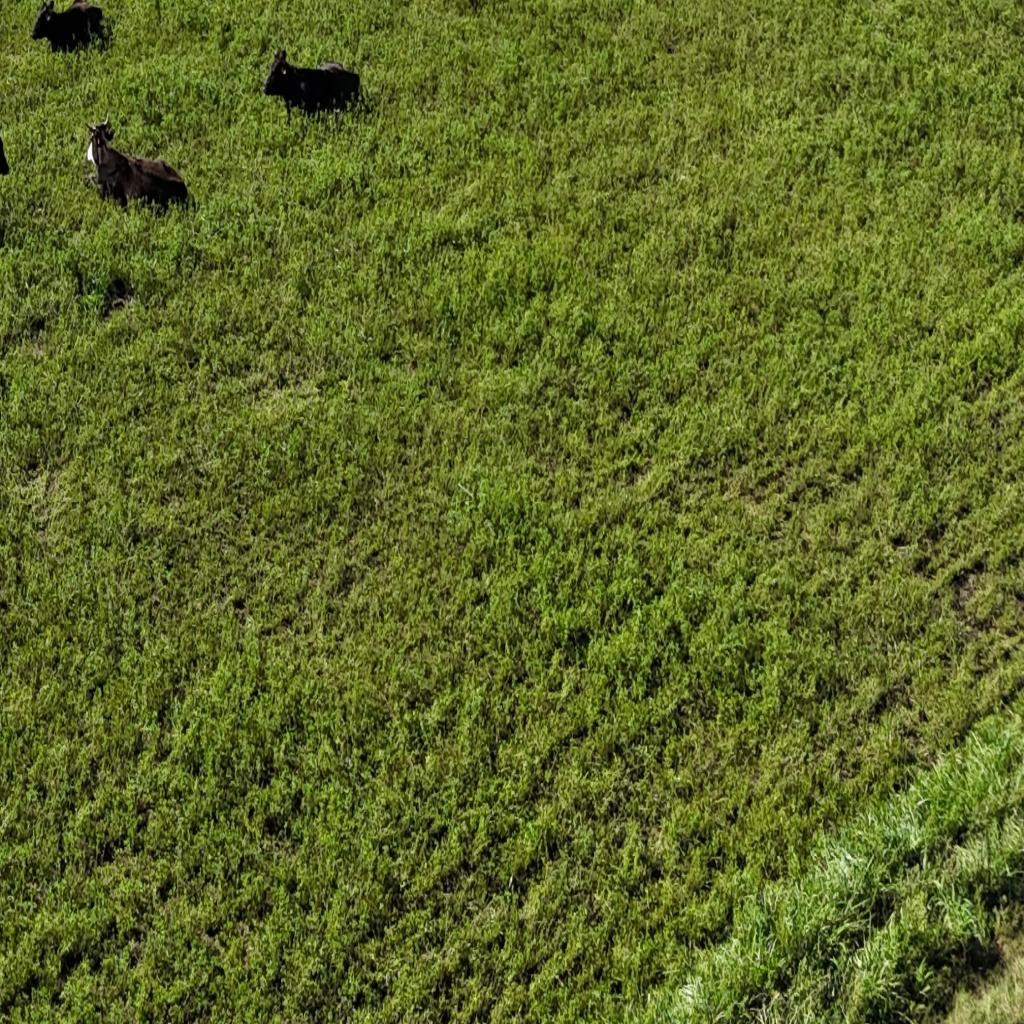cow: (255, 26, 377, 147), (86, 116, 190, 213), (8, 2, 132, 72)
